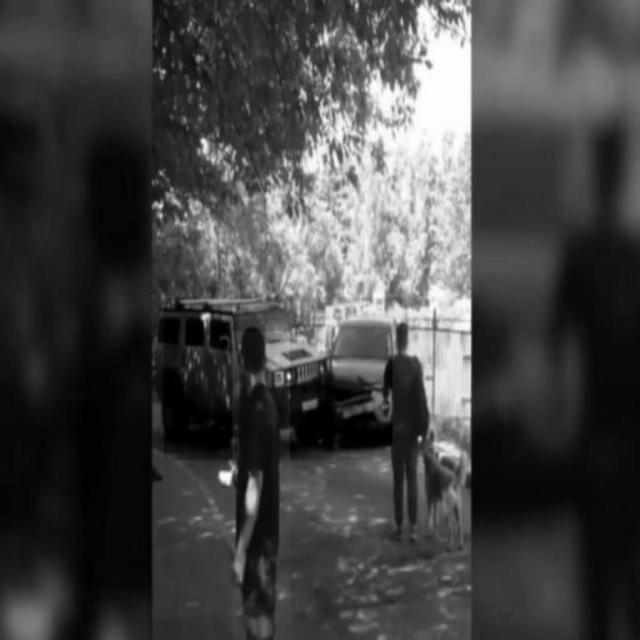accident: (164, 298, 405, 460)
person: (233, 331, 290, 639), (393, 327, 425, 544)
